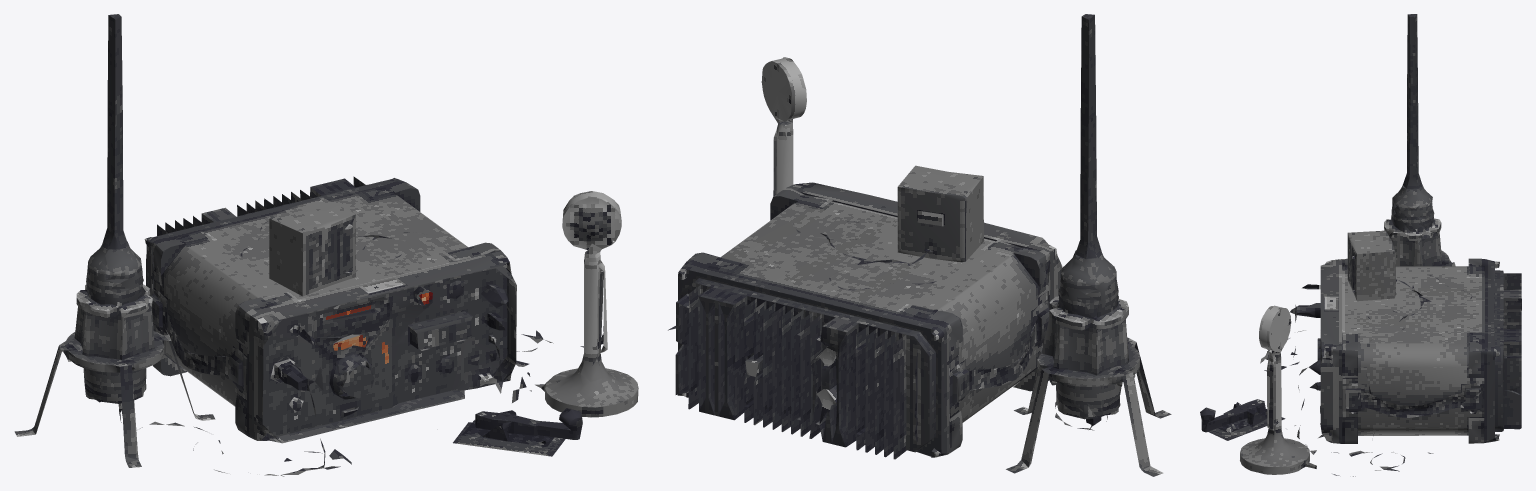
Rendered from vintage_radio_transceiver.glb.
3 views of the same model, side by side, from view 1: azimuth 30°, elevation 25°; view 2: azimuth 150°, elevation 25°; view 3: azimuth 270°, elevation 25° (orthographic). The views are drawn at different scales.
Parts seen in each view (by area): view 1: body; view 2: body; view 3: body.
Boxes of the visible parts, x1,y1,x2,y2 form: body: (14, 14, 638, 476); body: (668, 14, 1171, 476); body: (1200, 14, 1521, 476).
Size of the model in its own units: 0.5745 by 0.4344 by 0.4138.
1 material, 1 textured.
